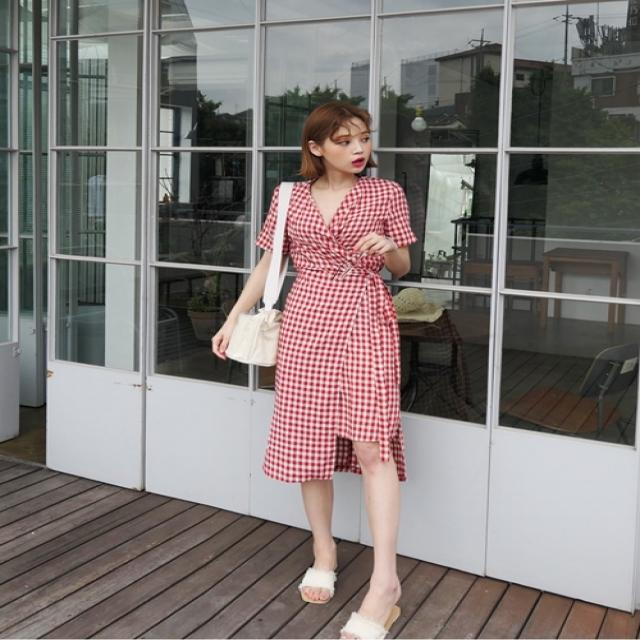clothes: (226, 179, 420, 485)
